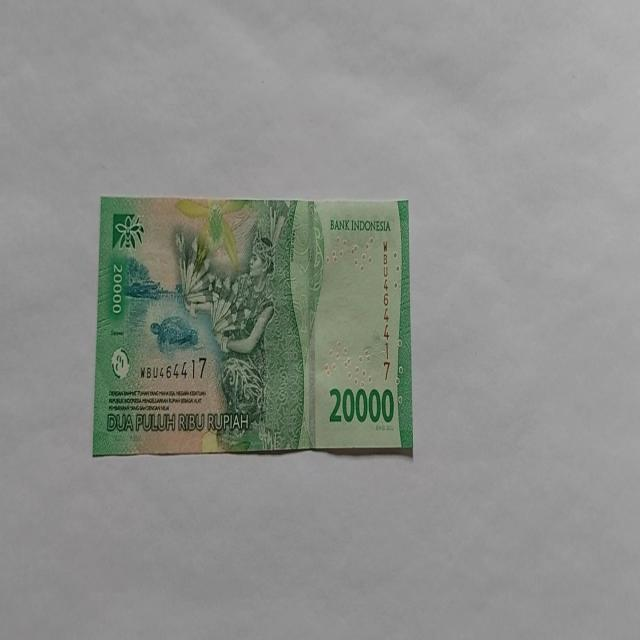dua puluh ribu rupiah: (92, 195, 414, 458)
